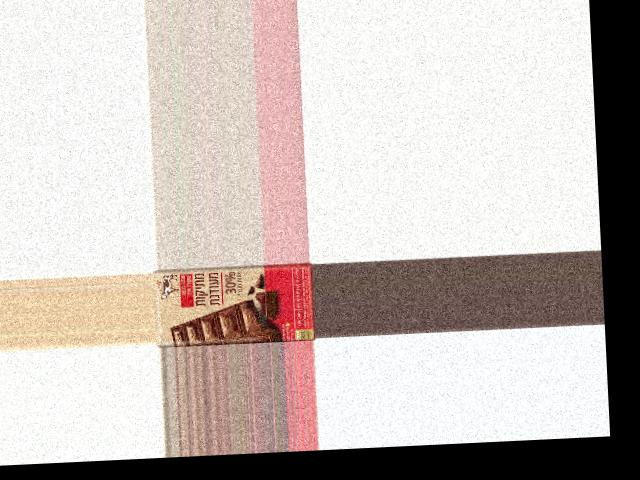chocolate: (152, 262, 314, 347)
